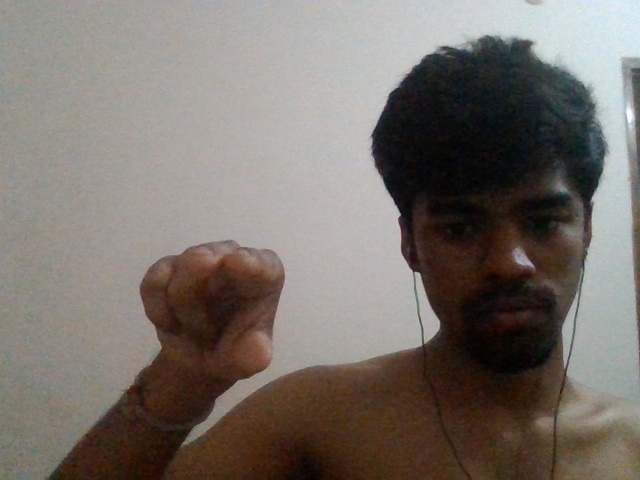No: (116, 227, 290, 401)
